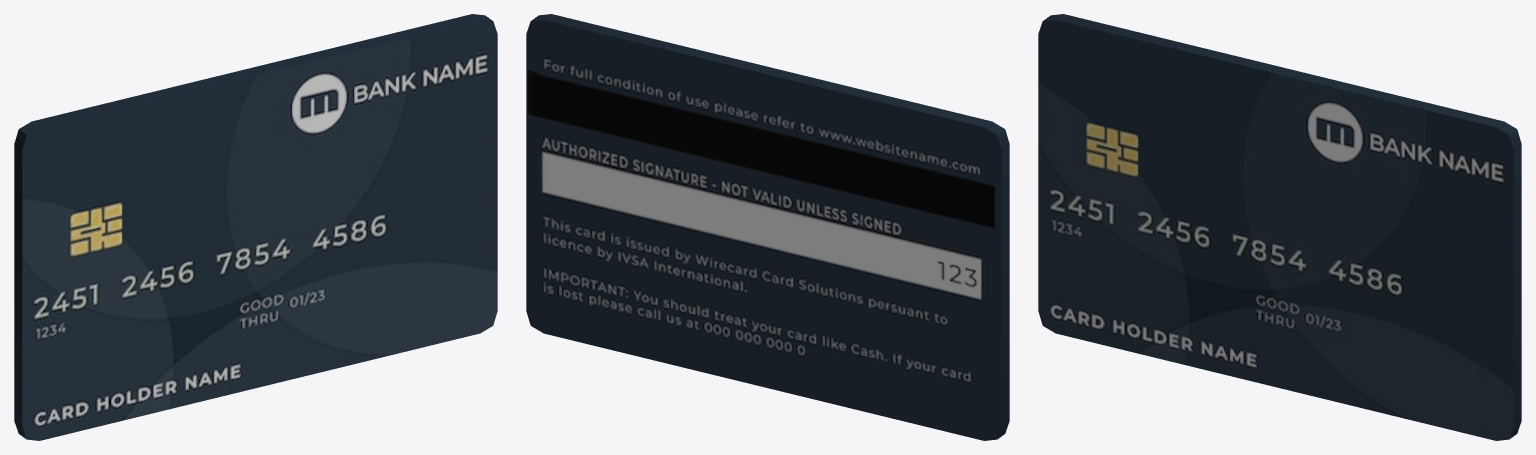
The model's file is Card.fbx.
3 views of the same model, side by side, from view 1: azimuth 30°, elevation 25°; view 2: azimuth 150°, elevation 25°; view 3: azimuth 330°, elevation 25° (orthographic).
Visible parts, largest first — view 1: Card; view 2: Card; view 3: Card.
Boxes of the visible parts, x1,y1,x2,y2 form: Card: [14, 14, 497, 440]; Card: [526, 14, 1009, 440]; Card: [1038, 14, 1521, 440].
Bounding box in the file's own units: 119 × 74.87 × 3.47.
Materials: 1 (1 with a texture image).
